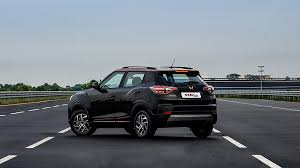XUV 400: (64, 61, 221, 140)
